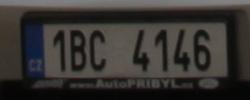1: (155, 29, 169, 72), (54, 30, 66, 72)
4: (133, 29, 150, 71), (174, 30, 191, 72)
6: (194, 29, 211, 71)
B: (70, 31, 86, 71)
C: (90, 30, 106, 71)
